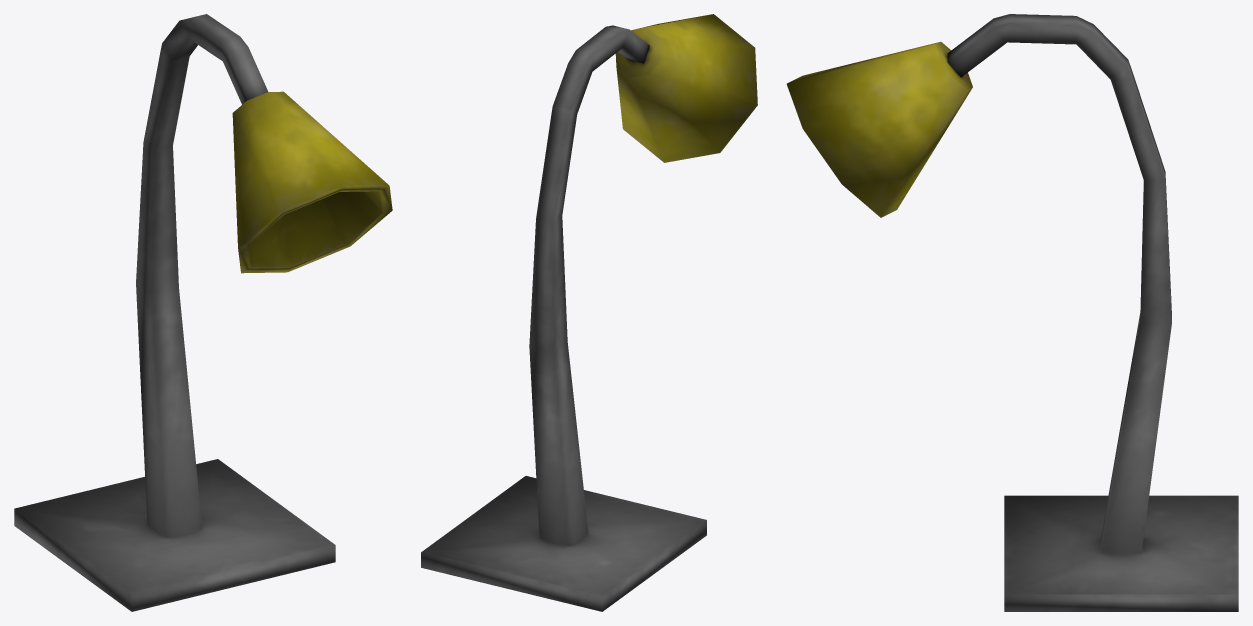
The model's file is TableLamp1.fbx.
3 renders of one model, left to right at view 1: azimuth 30°, elevation 25°; view 2: azimuth 150°, elevation 25°; view 3: azimuth 270°, elevation 25°, orthographic. The views are drawn at different scales.
Visible parts, largest first — view 1: TableLamp1; view 2: TableLamp1; view 3: TableLamp1.
Part boxes in pixels (x1=…): TableLamp1: x1=14, y1=14, x2=392, y2=611; TableLamp1: x1=421, y1=14, x2=757, y2=611; TableLamp1: x1=786, y1=14, x2=1238, y2=611.
Size of the model in its own units: 0.2208 by 0.566 by 0.4263.
Materials: 1 (1 with a texture image).
